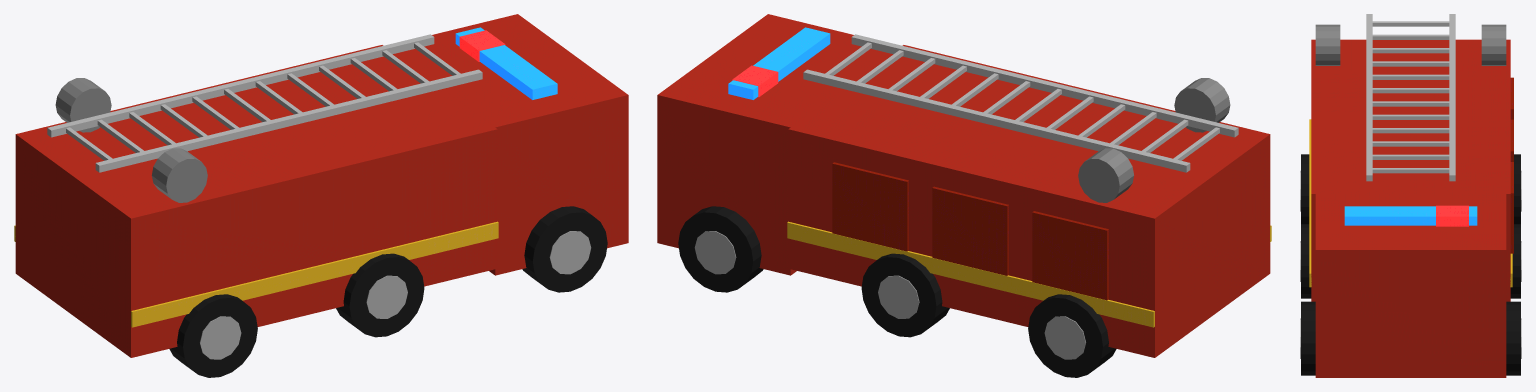
Rendered from fire-truck.glb.
The picture shows the model from 3 angles, left to right: view 1: azimuth 30°, elevation 25°; view 2: azimuth 150°, elevation 25°; view 3: azimuth 270°, elevation 25°; orthographic projection. The views are drawn at different scales.
Visible parts, largest first — view 1: Cube; view 2: Cube; view 3: Cube.
Part boxes in pixels (left/top/right/bottom): Cube: left=14, top=14, right=628, bottom=377; Cube: left=657, top=14, right=1271, bottom=377; Cube: left=1300, top=14, right=1521, bottom=377.
Bounding box in the file's own units: 2.4 × 1 × 1.07.
1 material, 1 textured.
